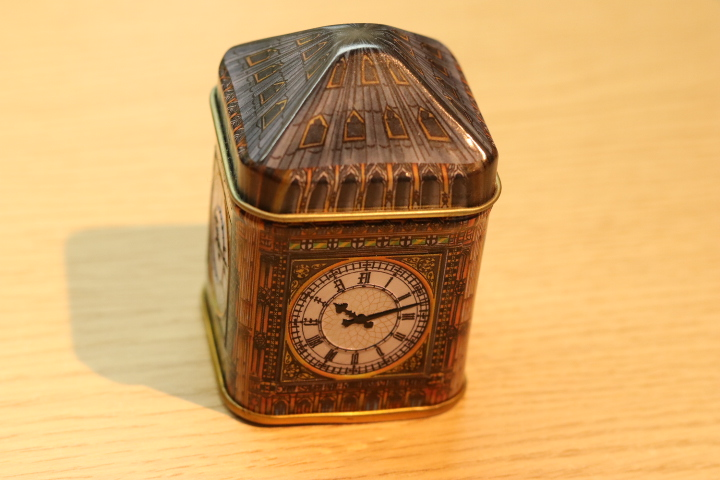Big Ben: (176, 18, 521, 433)
